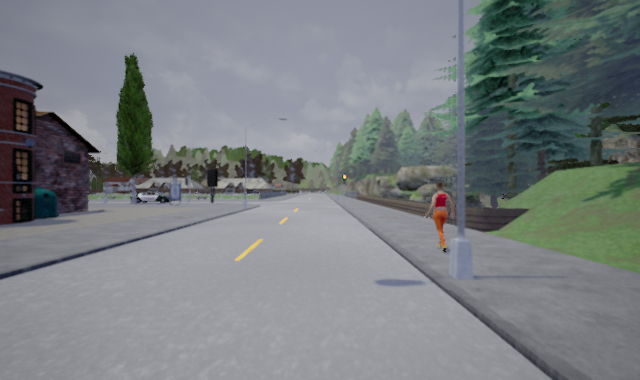pedestrian: (423, 178, 457, 253)
vehicle: (132, 191, 170, 204)
